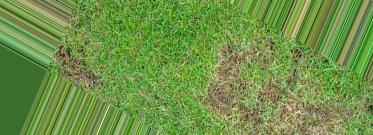patch: (219, 59, 252, 120), (273, 82, 311, 123), (63, 52, 92, 81)
